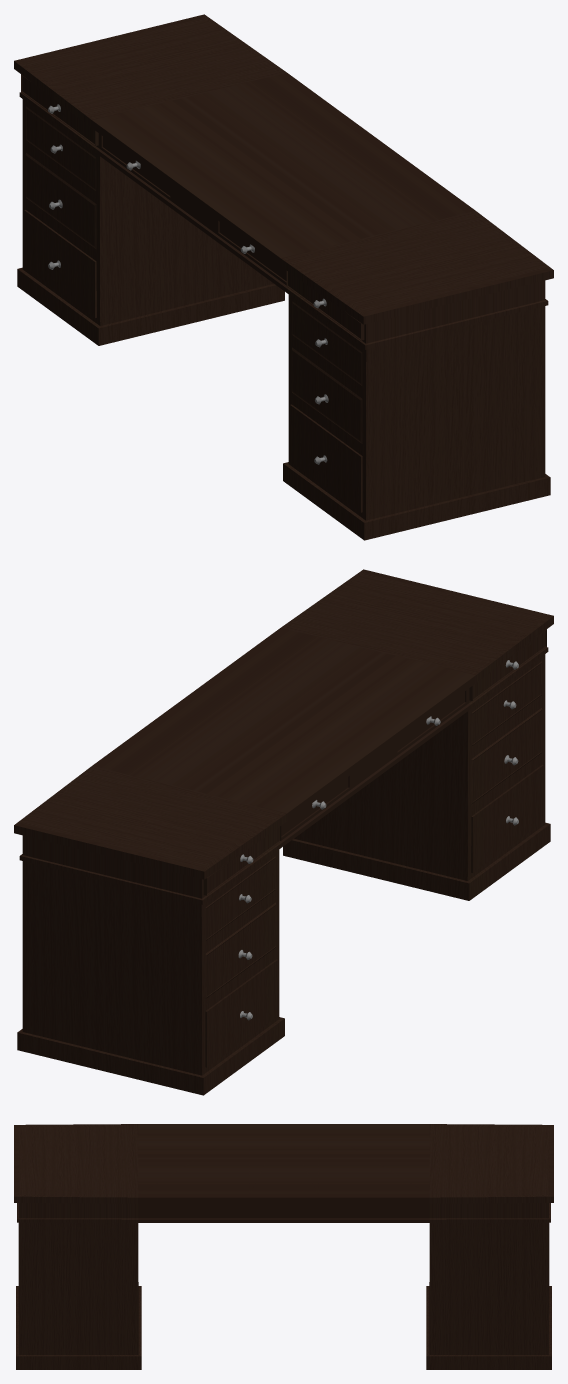
File: Desk.fbx
3 renders of one model, top to bottom at view 1: azimuth 30°, elevation 25°; view 2: azimuth 150°, elevation 25°; view 3: azimuth 270°, elevation 25°, orthographic. The views are drawn at different scales.
Parts seen in each view (by area): view 1: Cube.005; view 2: Cube.005; view 3: Cube.005.
Boxes of the visible parts, <box> form: Cube.005: <box>14,14,553,540</box>; Cube.005: <box>14,569,553,1095</box>; Cube.005: <box>14,1124,553,1369</box>.
Bounding box in the file's own units: 222 × 240 × 675.
